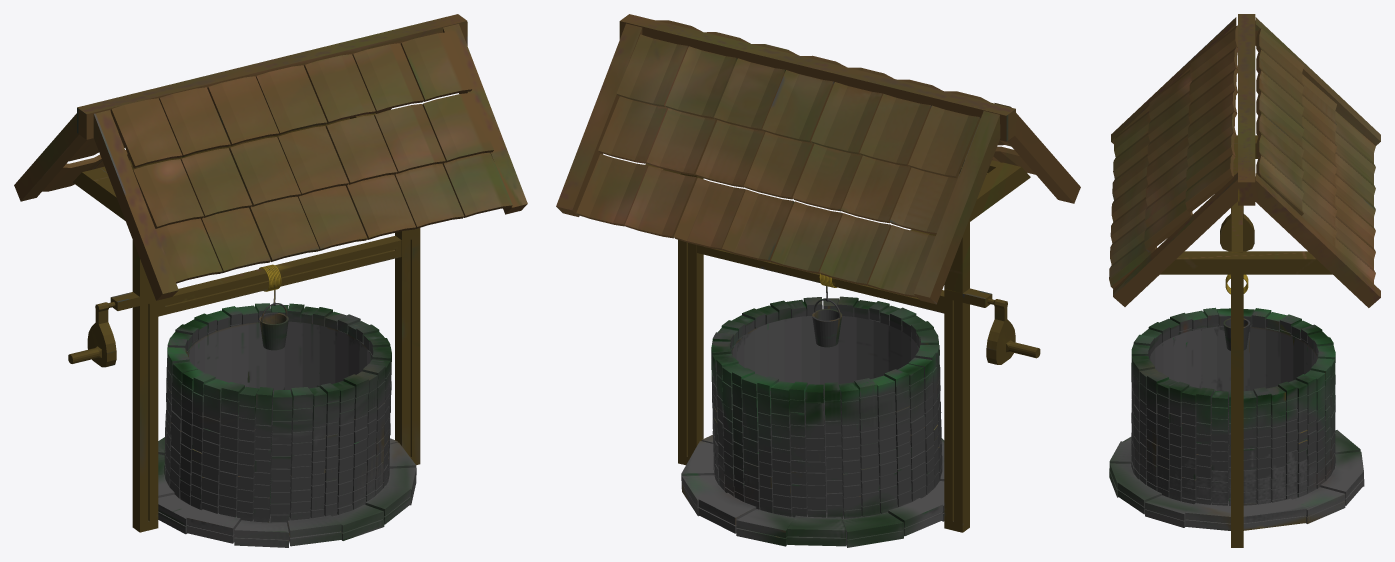
Rendered from well1.fbx.
3 views of the same model, side by side, from view 1: azimuth 30°, elevation 25°; view 2: azimuth 150°, elevation 25°; view 3: azimuth 270°, elevation 25° (orthographic). The views are drawn at different scales.
Parts seen in each view (by area): view 1: Bake; view 2: Bake; view 3: Bake.
Boxes of the visible parts, left/top/right/bottom form: Bake: left=14, top=14, right=527, bottom=547; Bake: left=556, top=14, right=1080, bottom=547; Bake: left=1109, top=14, right=1380, bottom=547.
Size of the model in its own units: 740 by 759 by 480.
1 material, 1 textured.
